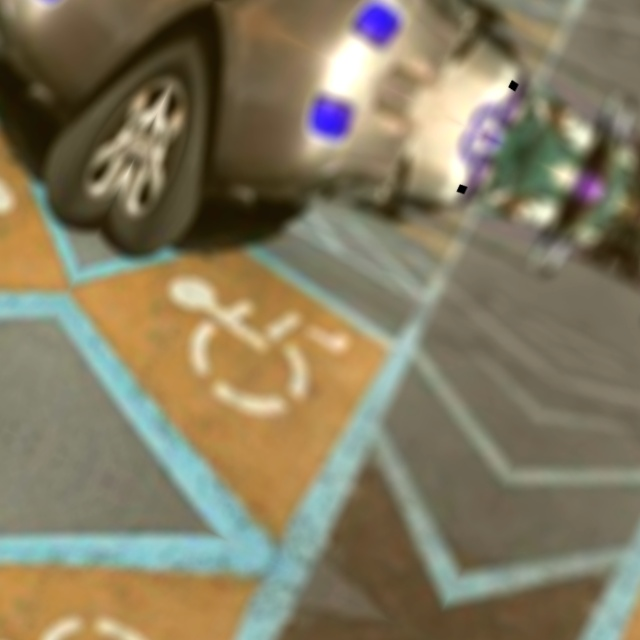ISA: (132, 252, 360, 445), (0, 575, 200, 640), (0, 88, 28, 280)
